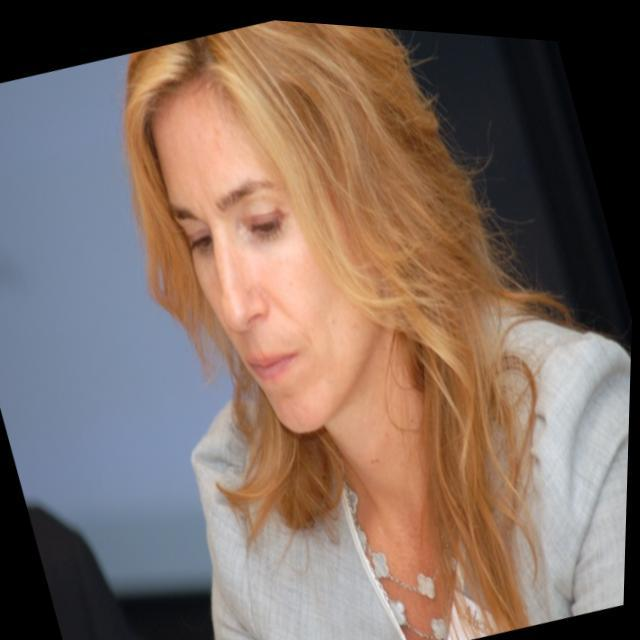Nonhelmet: (112, 24, 444, 450)
